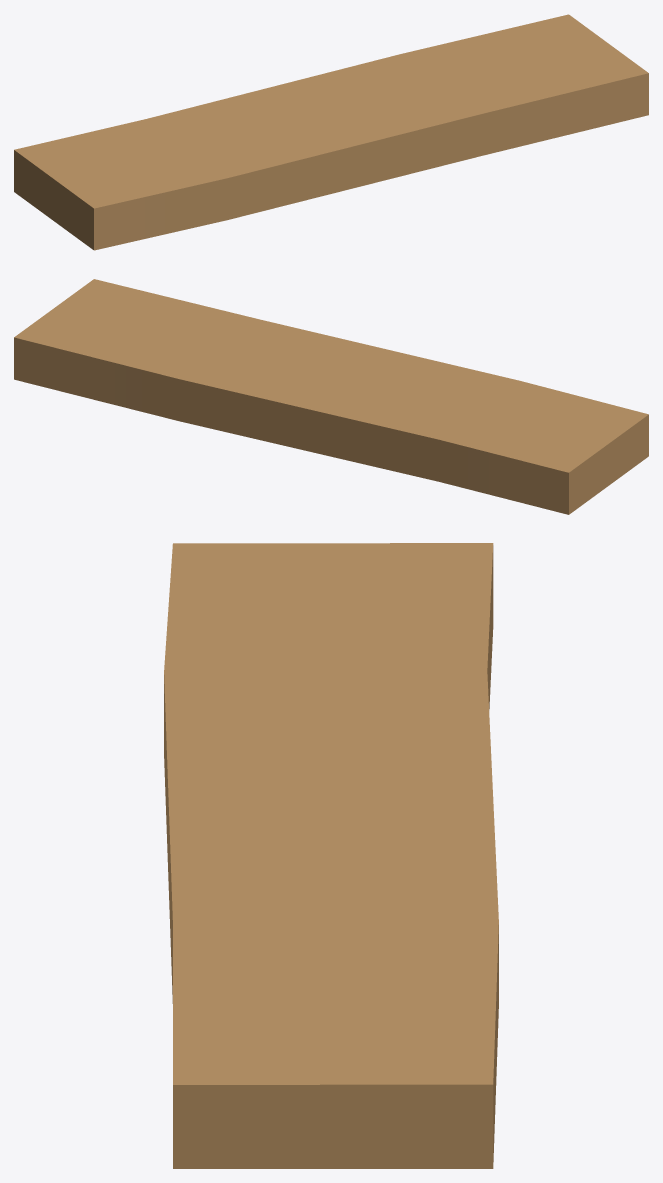
File: SM_Plank_base_nonails_1.fbx
3 renders of one model, top to bottom at view 1: azimuth 30°, elevation 25°; view 2: azimuth 150°, elevation 25°; view 3: azimuth 270°, elevation 25°, orthographic. The views are drawn at different scales.
Parts seen in each view (by area): view 1: Plank_base_nonails_1; view 2: Plank_base_nonails_1; view 3: Plank_base_nonails_1.
Boxes of the visible parts, x1,y1,x2,y2 form: Plank_base_nonails_1: (14,14,648,250); Plank_base_nonails_1: (14,279,648,514); Plank_base_nonails_1: (164,543,498,1168).
Size of the model in its own units: 400 by 29.04 by 105.
